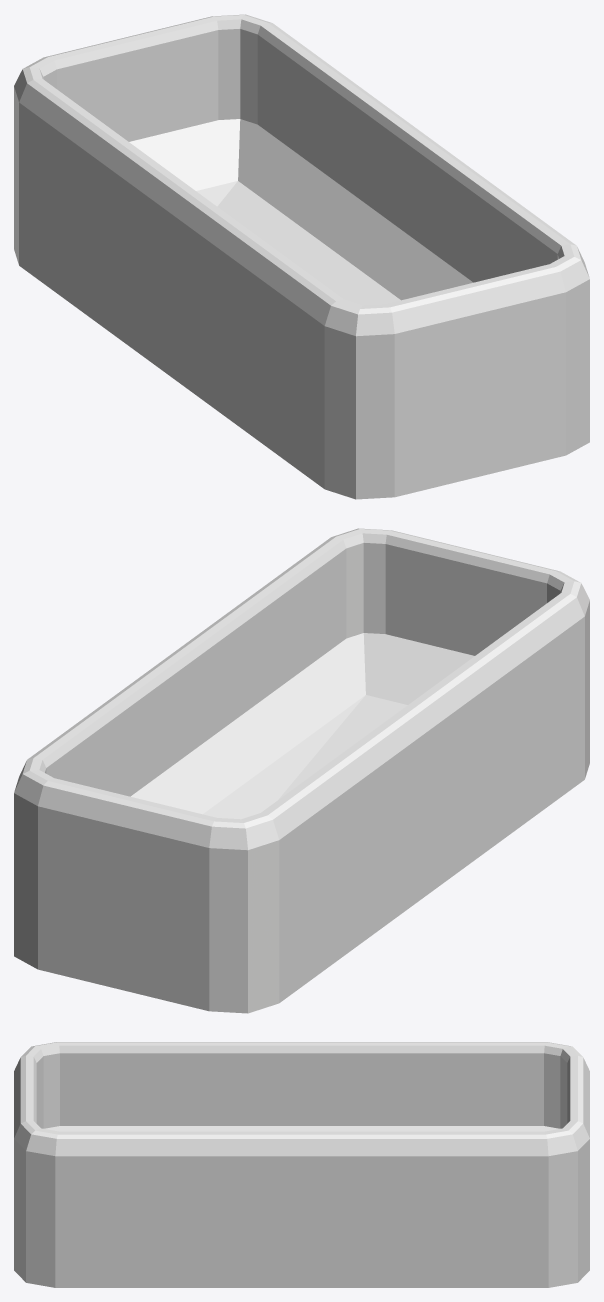
Rendered from Bathtub.fbx.
The picture shows the model from 3 angles, top to bottom: view 1: azimuth 30°, elevation 25°; view 2: azimuth 150°, elevation 25°; view 3: azimuth 270°, elevation 25°; orthographic projection. The views are drawn at different scales.
Visible parts, largest first — view 1: Bathtub; view 2: Bathtub; view 3: Bathtub.
Part boxes in pixels (bbox=[...]): Bathtub: bbox=[14, 14, 589, 499]; Bathtub: bbox=[14, 528, 589, 1013]; Bathtub: bbox=[14, 1042, 589, 1287].
Size of the model in its own units: 88.12 by 59.5 by 209.
